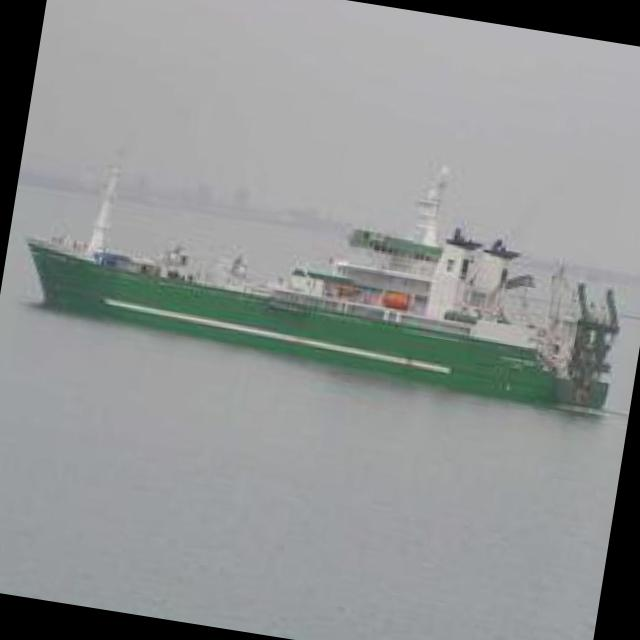boat: (18, 154, 636, 418)
